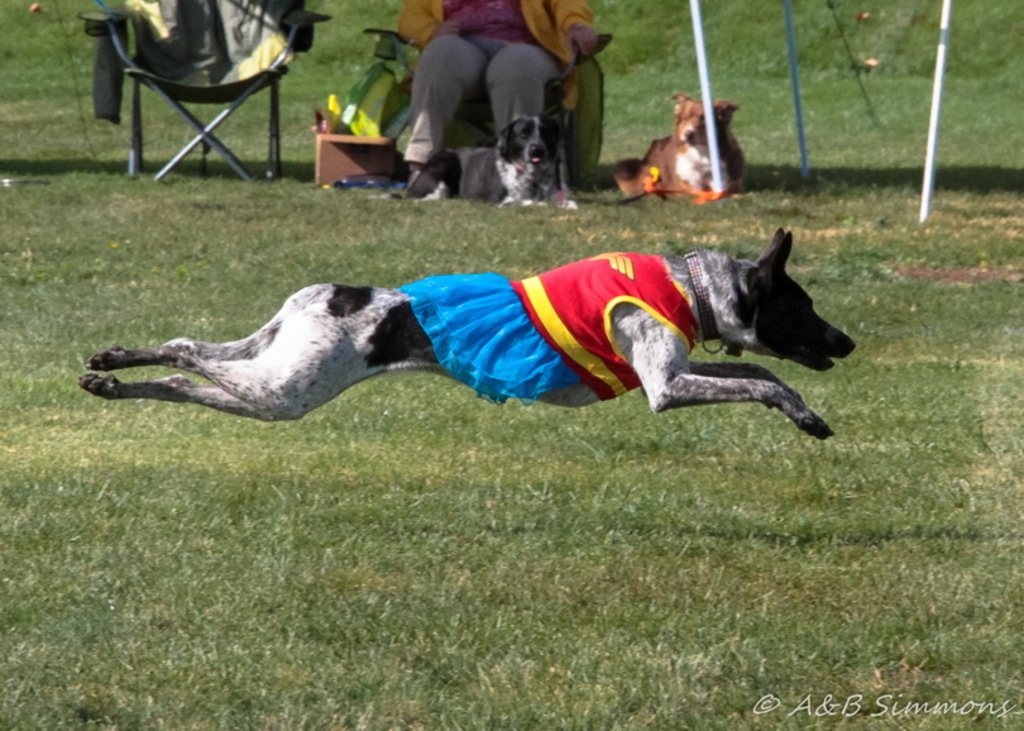Person: (397, 0, 598, 163)
